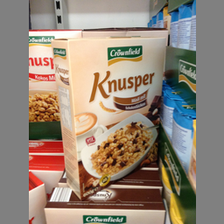cereal: (51, 35, 167, 202)
